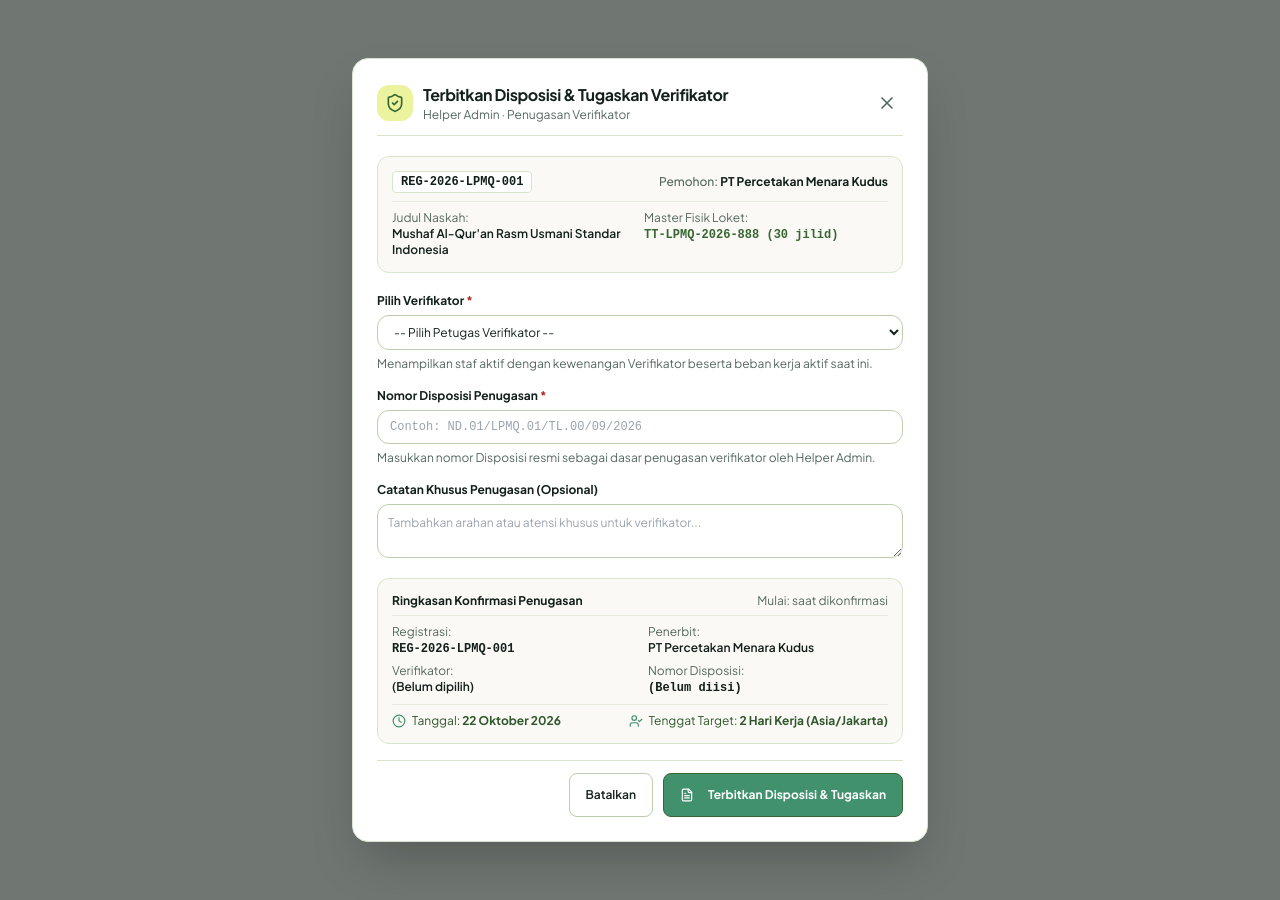
Test case: AssignVerificationDialog Component › menampilkan pesan validasi jika verifikator belum dipilih
Expected: the dropdown is shown, [377, 315, 903, 350]
// Isi nomor nota saja, belum pilih verifikator
In the field labelled "Nomor Disposisi Penugasan *": x=640, y=427 [377, 410, 903, 444], type "ND.01/LPMQ/2026"
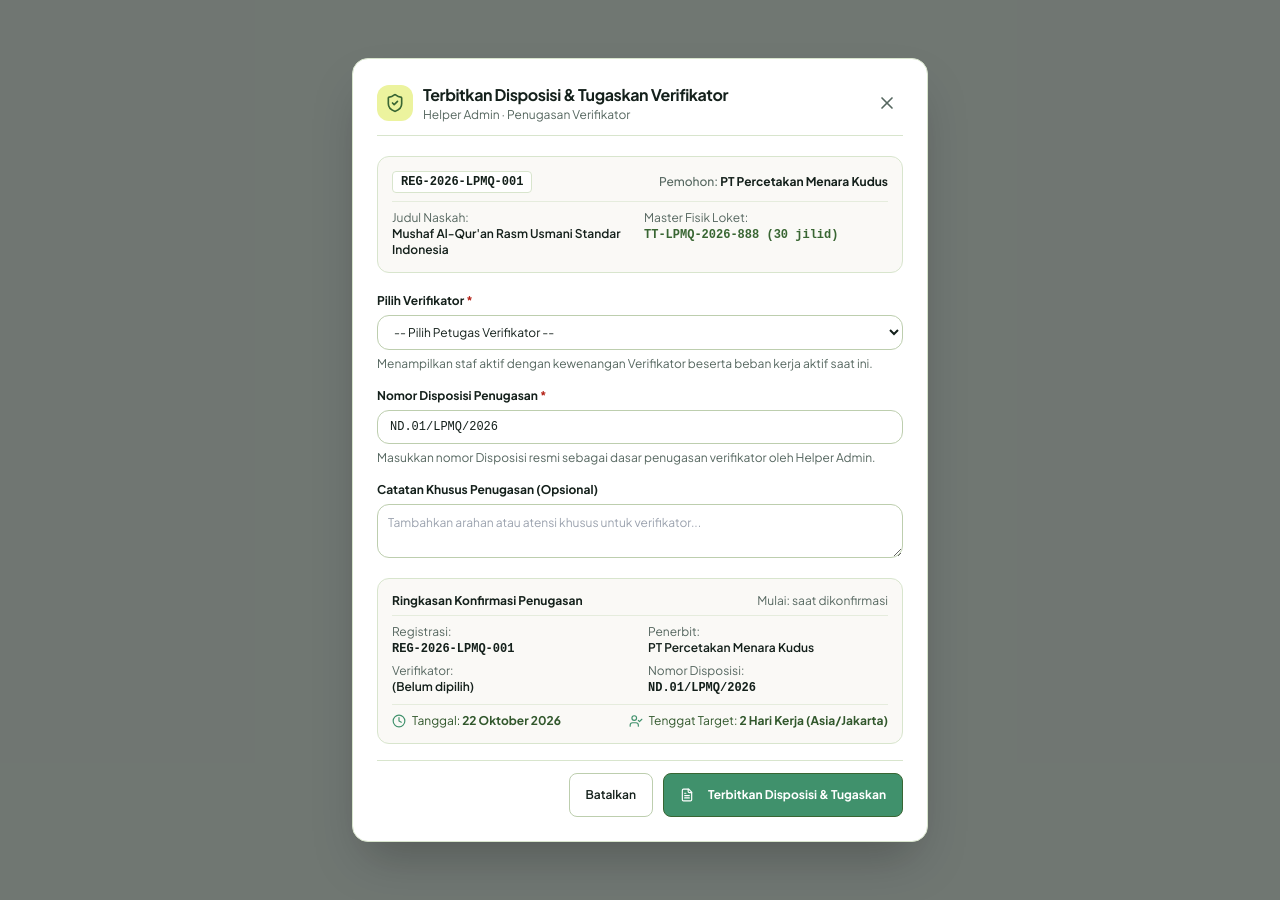
Click the button "Terbitkan Disposisi & Tugaskan": x=783, y=795 [663, 773, 903, 817]
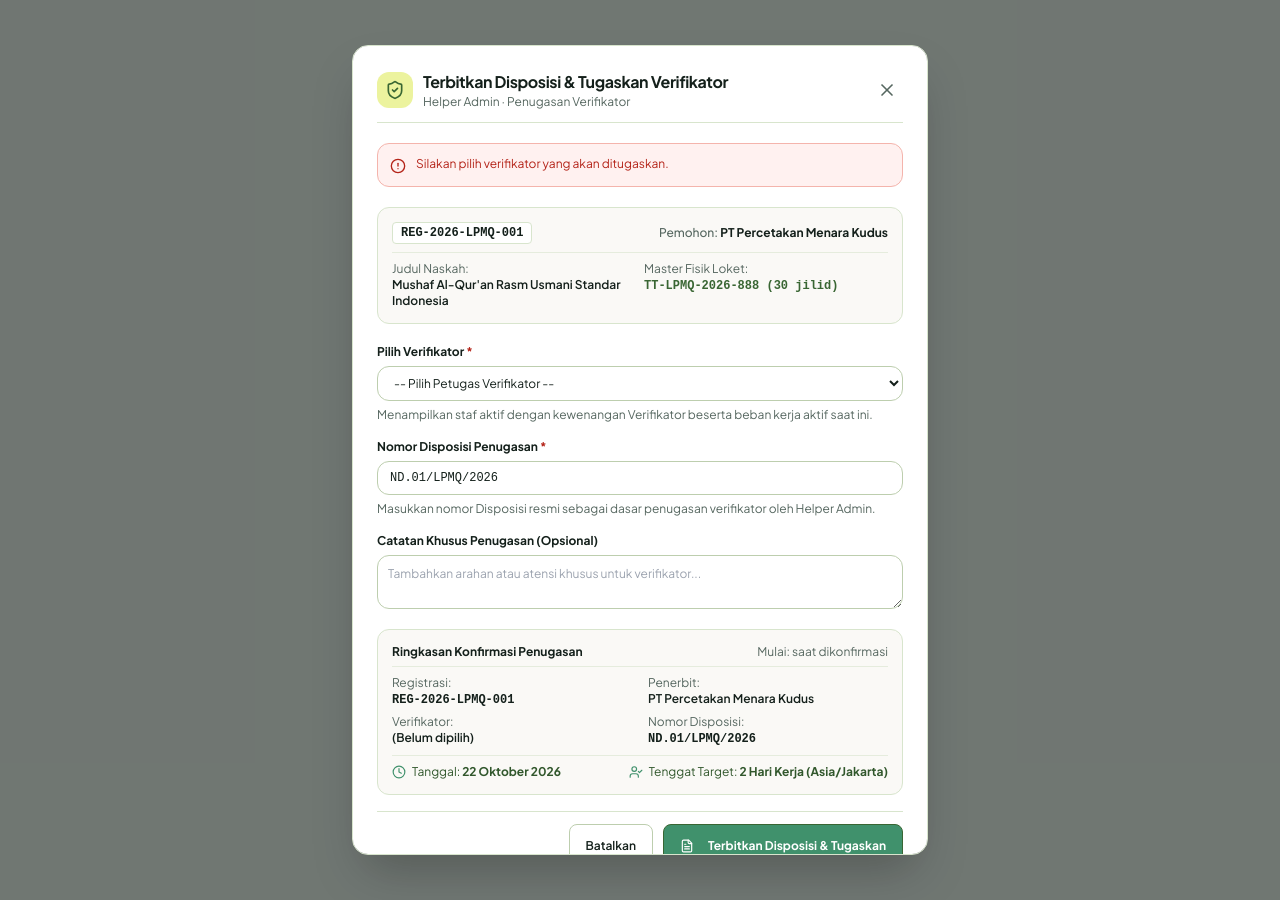
Now the text "Silakan pilih verifikator yang akan ditugaskan." is shown, box [416, 156, 669, 172]
